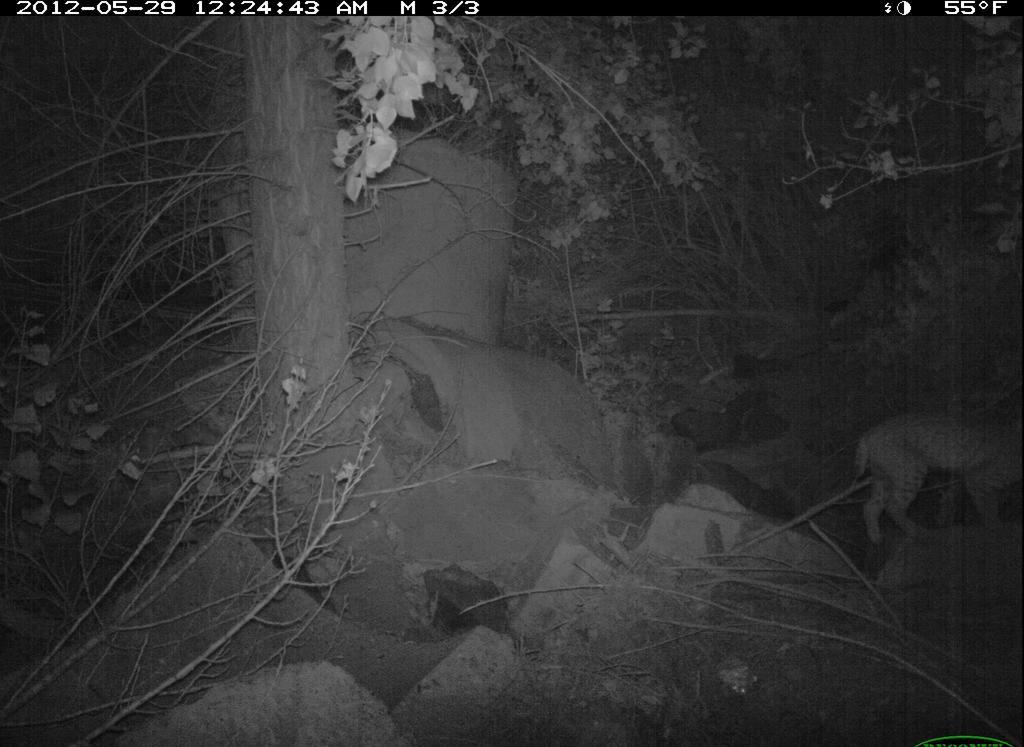bobcat: (841, 390, 1018, 568)
